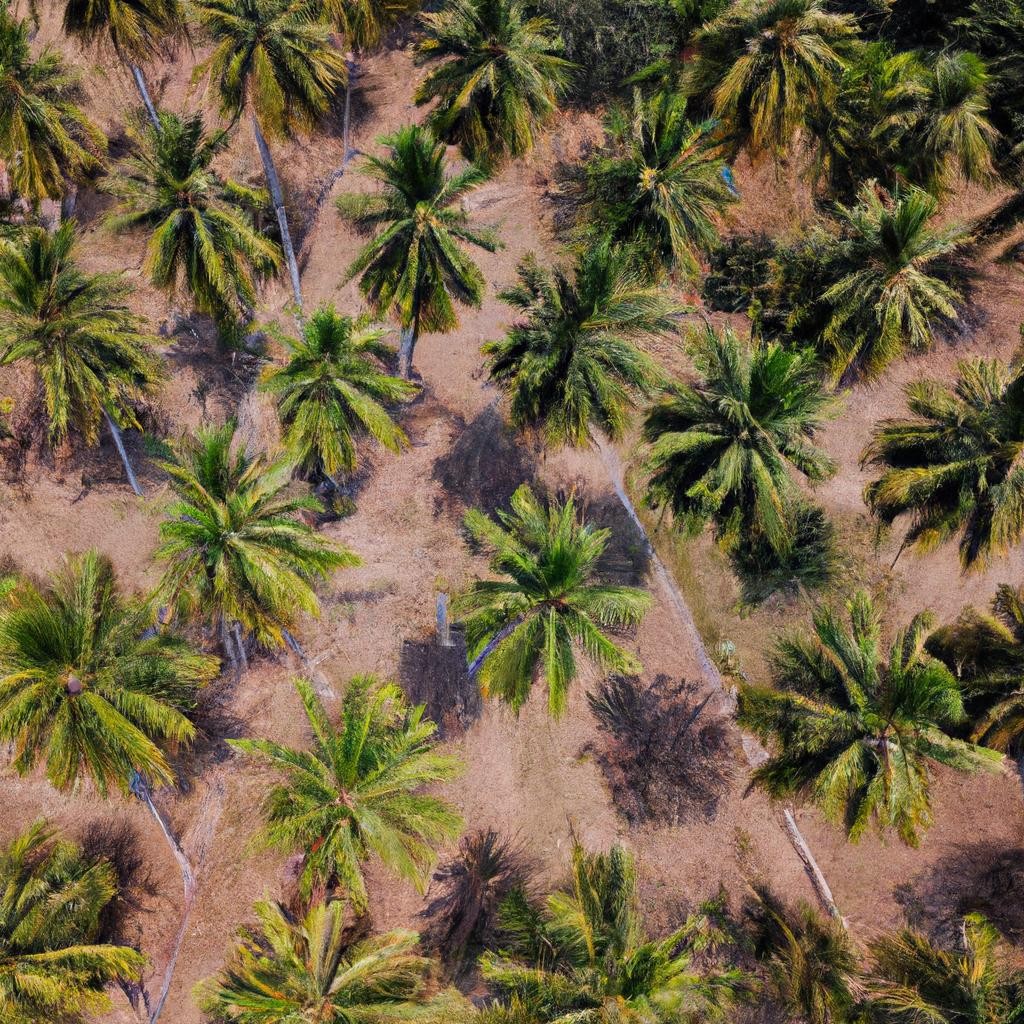coconut_tree: (709, 594, 1005, 856), (1, 535, 249, 820), (219, 675, 495, 908), (443, 475, 673, 720), (652, 294, 835, 566), (146, 416, 338, 664), (93, 94, 298, 324), (320, 97, 503, 350), (784, 158, 995, 370), (478, 240, 689, 451), (259, 296, 446, 502), (578, 81, 759, 248)
